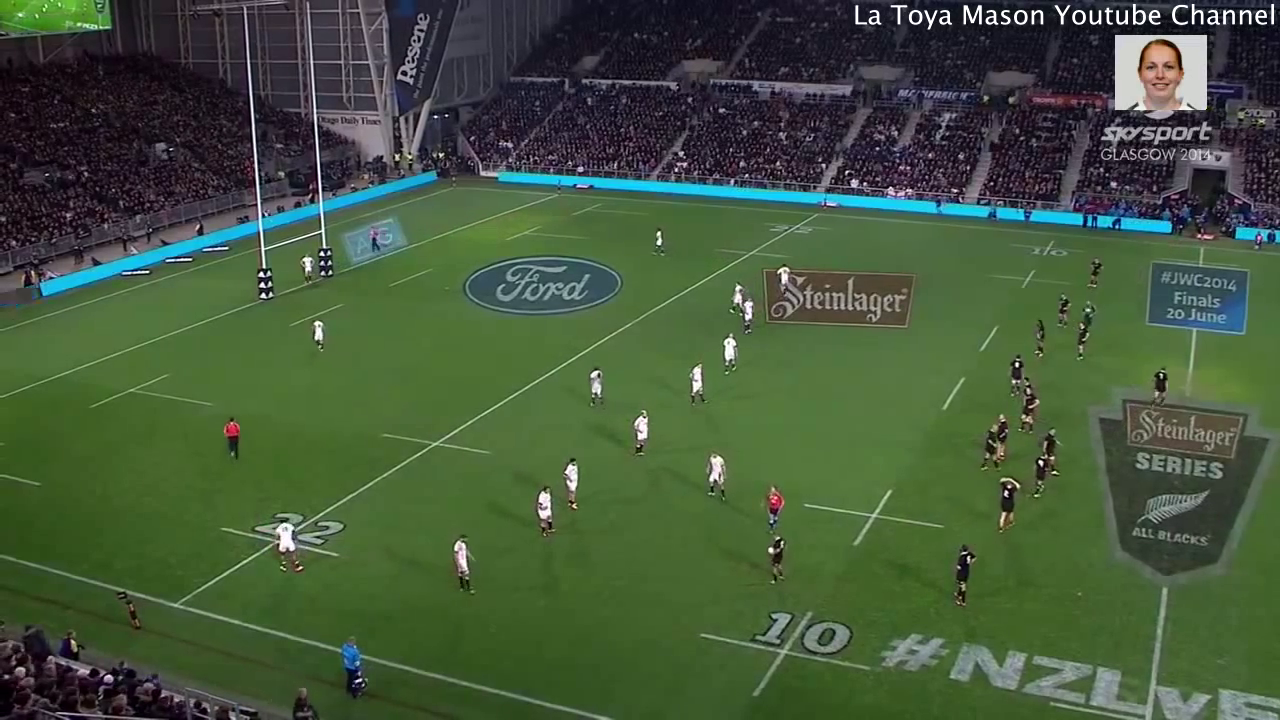10_metre: (691, 602, 881, 704), (798, 486, 945, 553), (984, 265, 1074, 294), (1005, 235, 1088, 262)
player: (696, 441, 735, 512), (271, 512, 310, 580), (448, 531, 481, 603), (759, 525, 793, 588), (948, 537, 975, 614), (992, 472, 1023, 534), (1026, 445, 1056, 506), (533, 480, 561, 543), (558, 452, 585, 517), (1013, 380, 1041, 438), (629, 404, 656, 463), (975, 423, 1001, 483), (682, 360, 712, 411), (759, 479, 787, 531), (1036, 424, 1062, 477), (584, 356, 609, 411), (1144, 365, 1170, 415), (219, 413, 244, 464), (1068, 317, 1094, 364), (717, 327, 740, 380), (1002, 350, 1024, 401), (1050, 290, 1076, 333), (992, 415, 1013, 468), (727, 277, 750, 325), (1031, 313, 1050, 364), (307, 314, 328, 360), (739, 298, 762, 340), (297, 250, 318, 292), (1083, 253, 1103, 293), (776, 260, 796, 296), (1080, 299, 1100, 335), (649, 225, 667, 260)
post: (237, 1, 337, 301)
